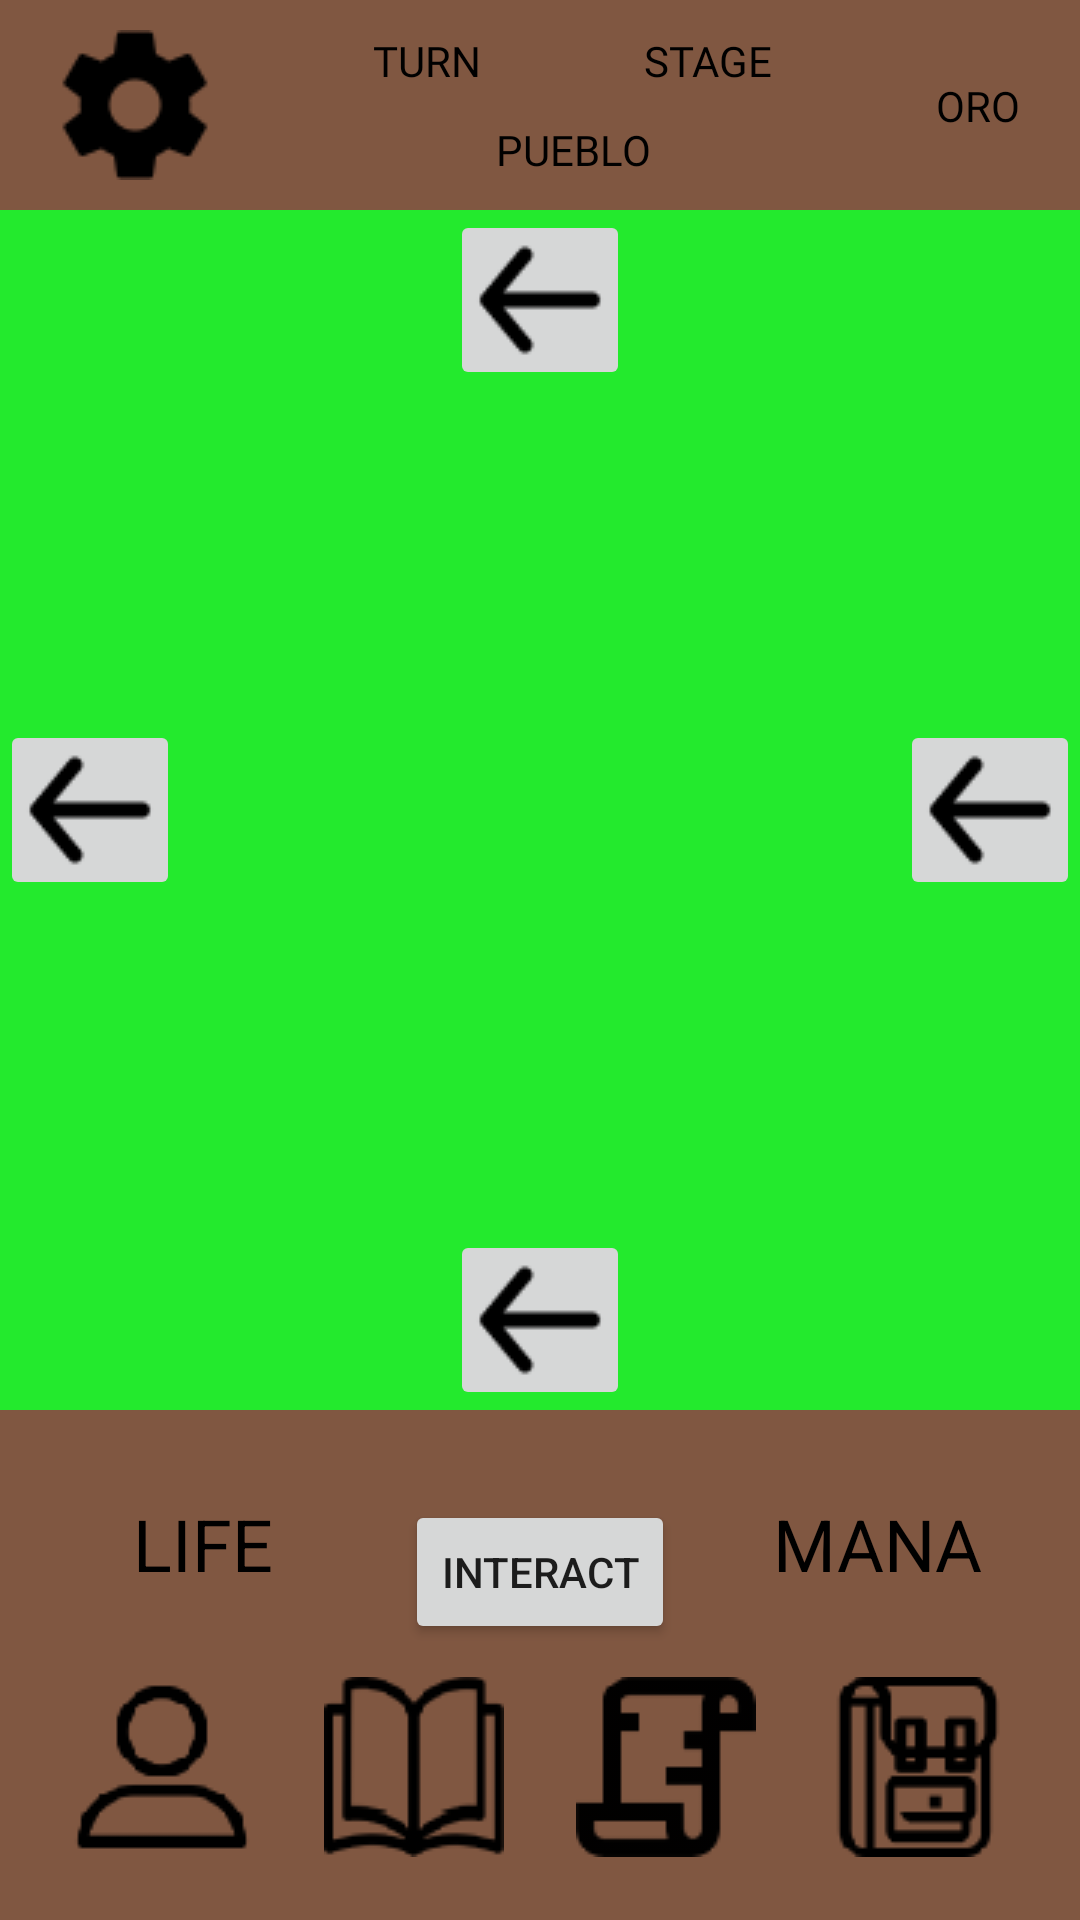

Icons on this 1080w x 1920h Android screen, each with the point to tap as (x,y):
arrow: (540,300), (90,810), (990,810), (540,1320)
backpack: (918,1767)
book: (414,1767)
profile: (162,1767)
quest: (666,1767)
settings: (135,105)
